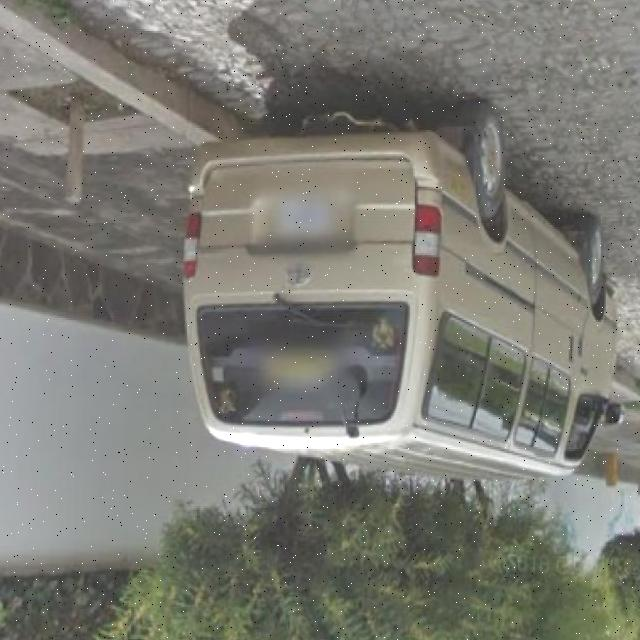car: (188, 103, 634, 465)
